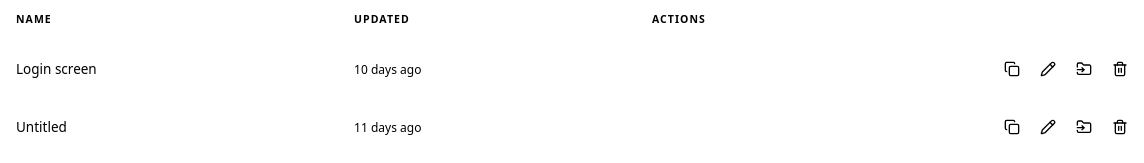
Test: FilesTable - files (existing behavior) › shows an inline error in the row and does not navigate when duplicating fails
The image size is (1144, 163).
Click the button named "Duplicate" in the row of "Login screen": {"x": 1012, "y": 69} left=996, top=53, right=1028, bottom=85
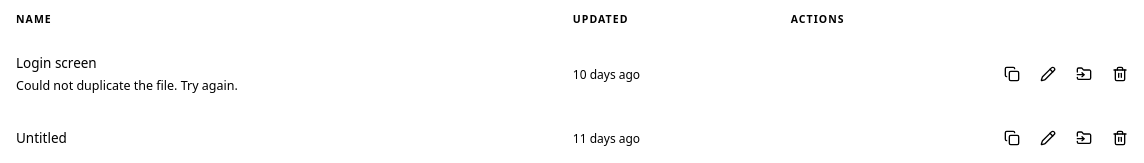
Check: the message reads "Could not duplicate the file. Try again.", box left=16, top=77, right=238, bottom=94
